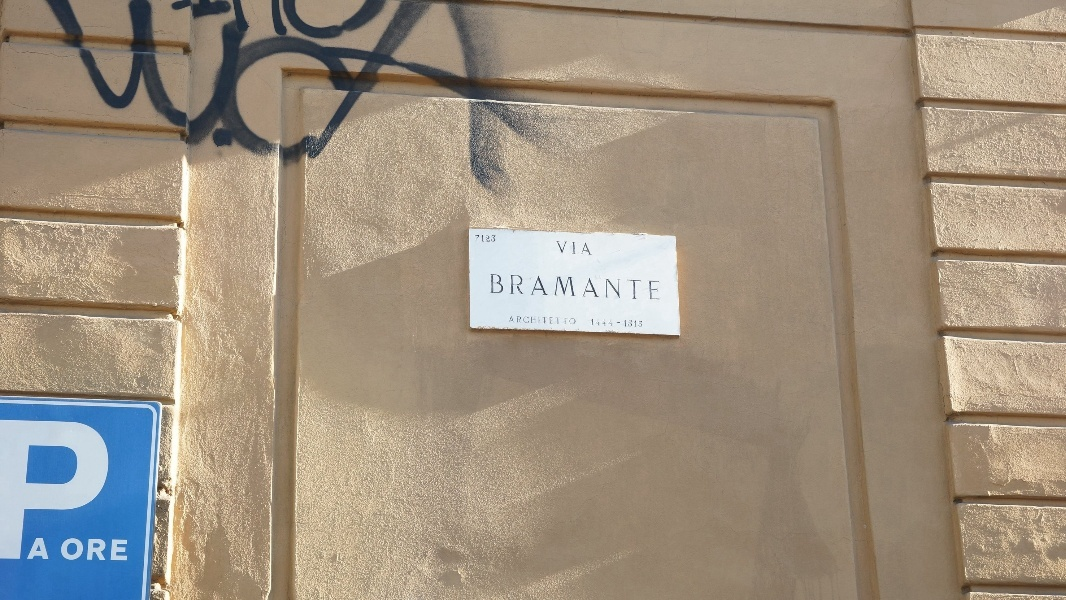text: (49, 2, 64, 185), (65, 2, 80, 185), (81, 2, 96, 185), (97, 2, 112, 185), (113, 2, 128, 185), (129, 2, 144, 185), (145, 2, 160, 185), (161, 2, 176, 185), (177, 2, 192, 185), (193, 2, 208, 185), (209, 2, 224, 185), (225, 2, 240, 185), (241, 2, 256, 185), (257, 2, 272, 185), (273, 2, 288, 185), (289, 2, 304, 185), (305, 2, 320, 185), (321, 2, 336, 185), (337, 2, 352, 185), (353, 2, 368, 185), (369, 2, 384, 185), (385, 2, 400, 185), (401, 2, 416, 185), (417, 2, 432, 185), (433, 2, 448, 185), (449, 2, 464, 185), (465, 2, 480, 185), (481, 2, 496, 185), (497, 2, 512, 185), (513, 2, 528, 185), (529, 2, 544, 185), (545, 2, 560, 185), (17, 420, 32, 569), (33, 420, 48, 569), (49, 420, 64, 569), (65, 420, 80, 569), (81, 420, 96, 569), (97, 420, 112, 569), (561, 2, 565, 185), (45, 2, 48, 185), (497, 274, 512, 301), (513, 274, 528, 301), (529, 274, 544, 301), (545, 274, 560, 301), (561, 274, 576, 301), (577, 274, 592, 301), (593, 274, 608, 301), (609, 274, 624, 301), (625, 274, 640, 301), (641, 274, 656, 301), (65, 539, 80, 563), (81, 539, 96, 563), (97, 539, 112, 563), (113, 539, 128, 563), (36, 537, 48, 561), (561, 241, 576, 256), (577, 241, 592, 256), (593, 318, 608, 328), (609, 318, 624, 328), (625, 318, 640, 328), (113, 420, 114, 569), (491, 274, 496, 301), (513, 316, 528, 325), (529, 316, 544, 325), (545, 316, 560, 325), (561, 316, 576, 325), (657, 274, 661, 301), (481, 235, 496, 242), (556, 241, 560, 256), (474, 235, 480, 242), (63, 539, 64, 563), (49, 537, 50, 561), (641, 318, 642, 328), (511, 316, 512, 325)
